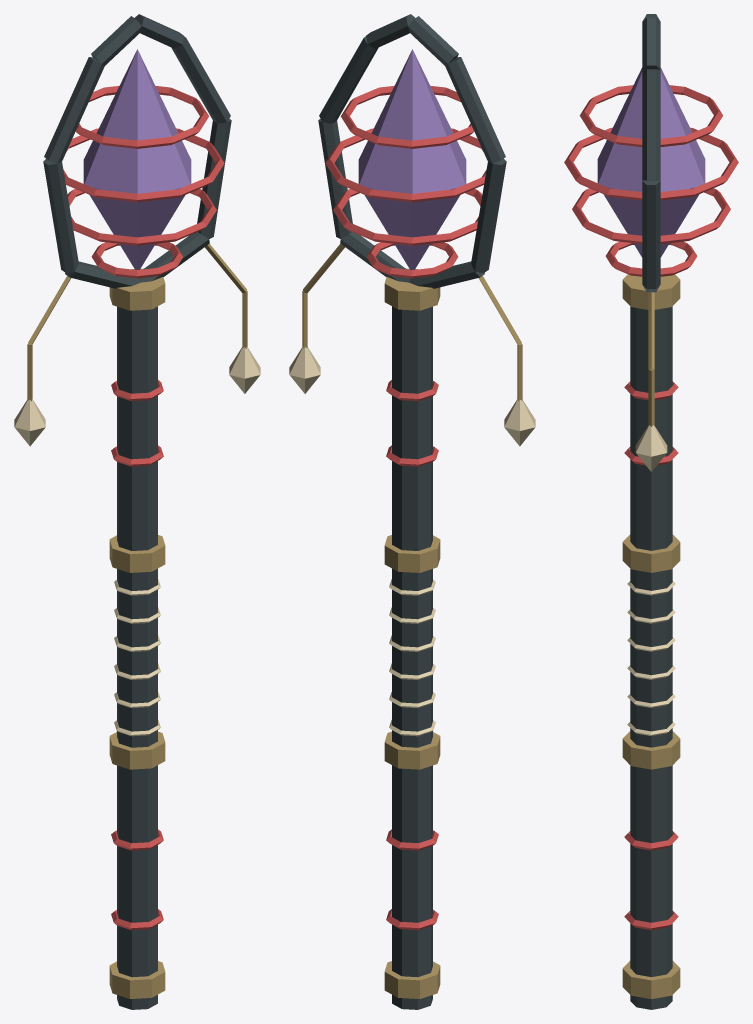
The model's file is Profession_HexSpindle.fbx.
3 views of the same model, side by side, from view 1: azimuth 30°, elevation 25°; view 2: azimuth 150°, elevation 25°; view 3: azimuth 270°, elevation 25° (orthographic).
Parts seen in each view (by area): view 1: Profession_HexSpindle; view 2: Profession_HexSpindle; view 3: Profession_HexSpindle.
Boxes of the visible parts, x1=… form: Profession_HexSpindle: x1=14, y1=14, x2=260, y2=1009; Profession_HexSpindle: x1=289, y1=14, x2=535, y2=1009; Profession_HexSpindle: x1=564, y1=14, x2=738, y2=1009.
Size of the model in its own units: 0.55 by 2.1 by 0.338.
